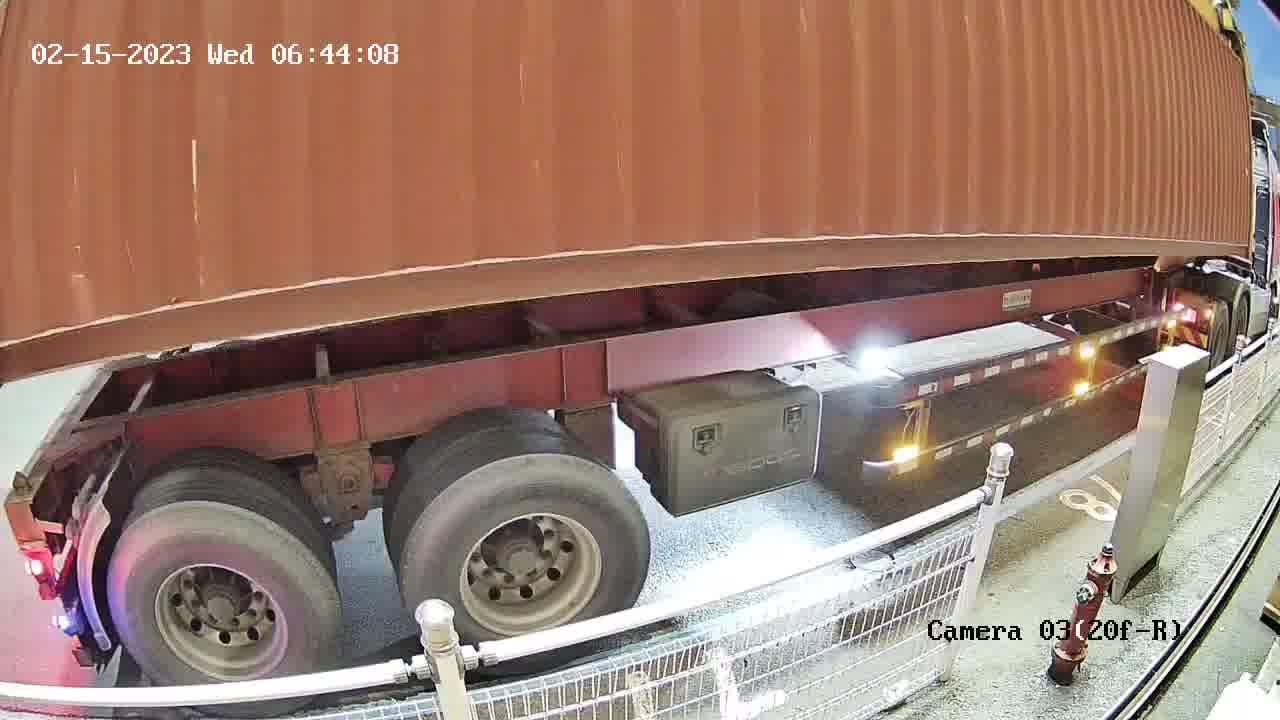Cone: (0, 471, 45, 542)
Tire: (397, 455, 650, 642), (108, 504, 347, 686)
